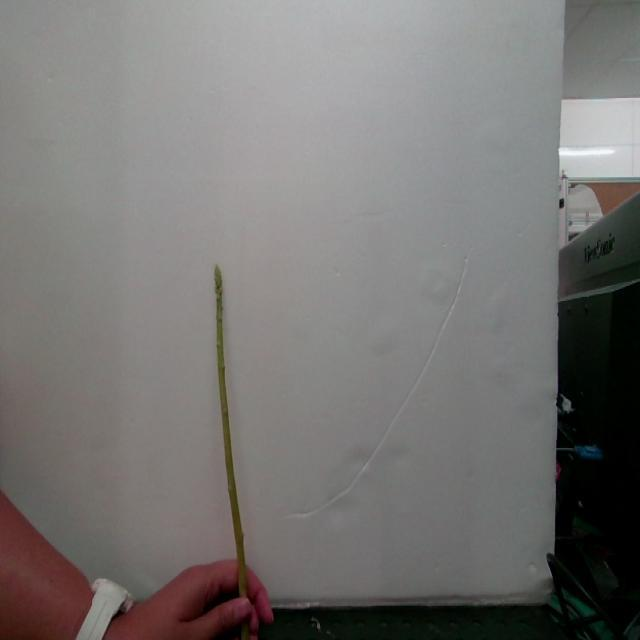aspargus: (214, 266, 250, 600)
